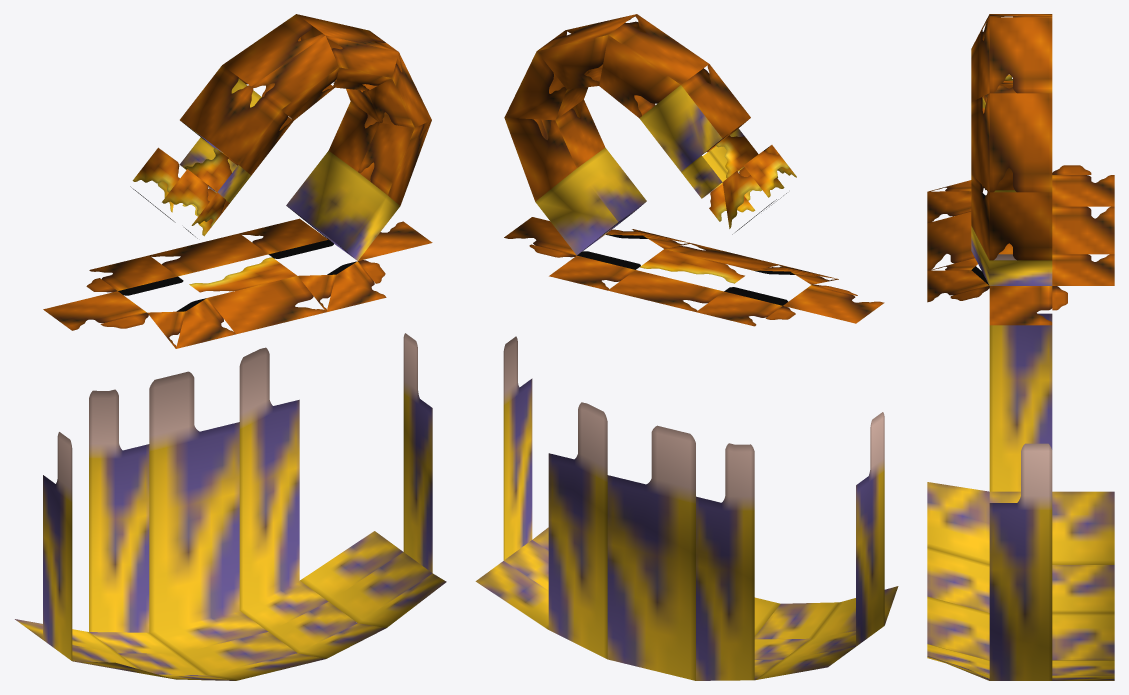
3 renders of one model, left to right at view 1: azimuth 30°, elevation 25°; view 2: azimuth 150°, elevation 25°; view 3: azimuth 270°, elevation 25°, orthographic. The views are drawn at different scales.
Parts seen in each view (by area): view 1: T1L1M001_40; view 2: T1L1M001_40; view 3: T1L1M001_40.
Part boxes in pixels (bbox=[...]): T1L1M001_40: bbox=[15, 14, 446, 680]; T1L1M001_40: bbox=[475, 14, 898, 680]; T1L1M001_40: bbox=[927, 14, 1114, 680].
Bounding box in the file's own units: 0.4795 × 0.7764 × 0.2002.
